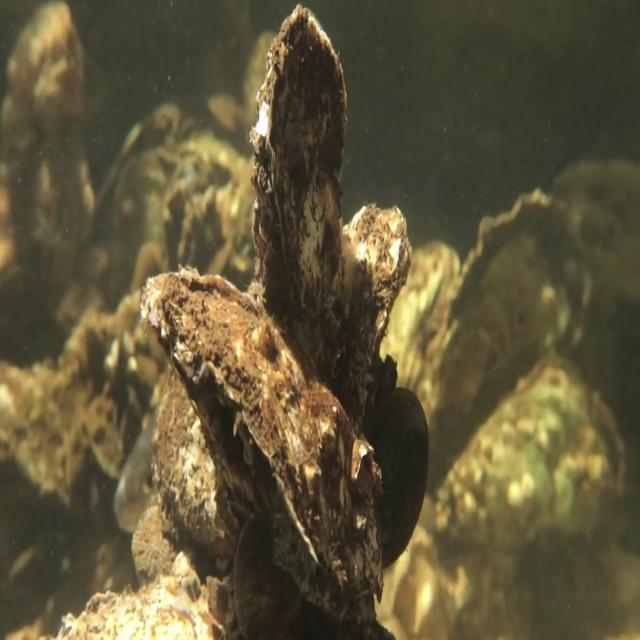Oyster-Closed: (133, 257, 395, 617), (237, 0, 367, 380), (153, 357, 260, 563), (335, 184, 420, 434)
Oyster-Indeterminate: (419, 186, 593, 463), (436, 355, 629, 563), (385, 382, 432, 565)
